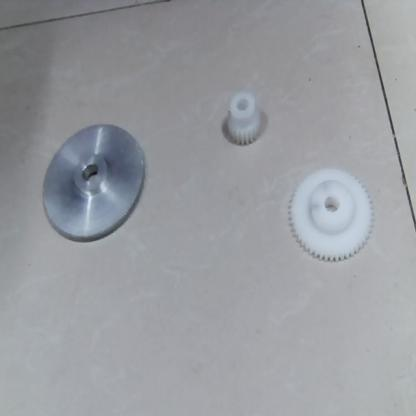FOD: (38, 117, 147, 245), (286, 167, 376, 268), (221, 87, 270, 157)
